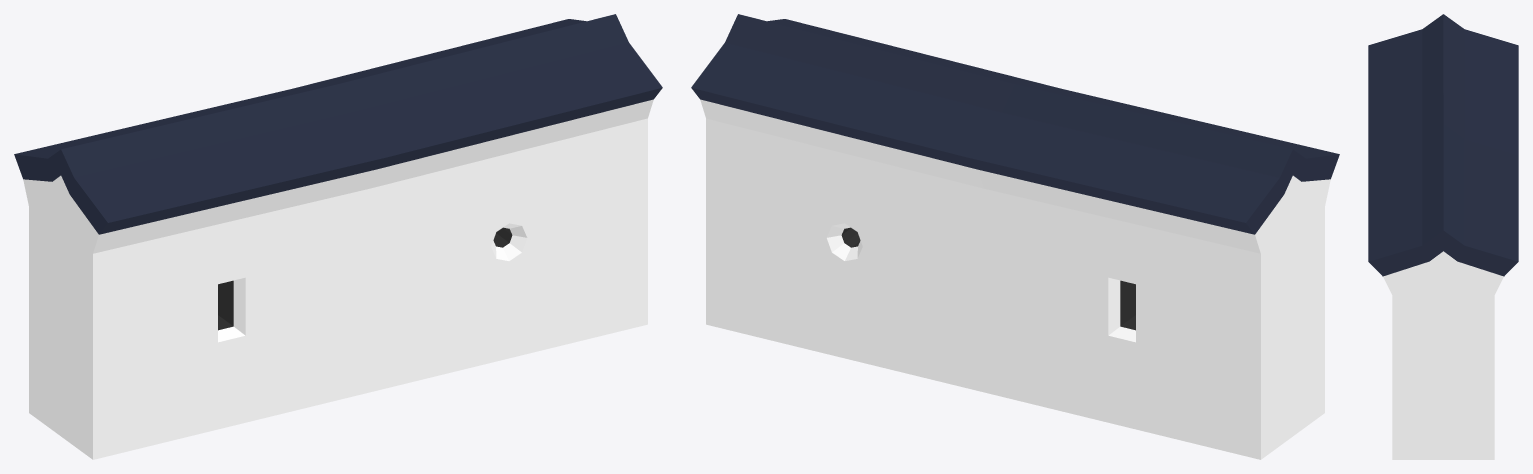
Rendered from wall-japan_small.glb.
3 renders of one model, left to right at view 1: azimuth 30°, elevation 25°; view 2: azimuth 150°, elevation 25°; view 3: azimuth 270°, elevation 25°, orthographic. The views are drawn at different scales.
Parts seen in each view (by area): view 1: wall-japan_small; view 2: wall-japan_small; view 3: wall-japan_small.
Boxes of the visible parts, box(x1,y1,x2,y2) form: wall-japan_small: box(14, 14, 662, 459); wall-japan_small: box(691, 14, 1339, 459); wall-japan_small: box(1368, 14, 1518, 459).
Size of the model in its own units: 5 by 2.47 by 1.47.
1 material, 1 textured.
